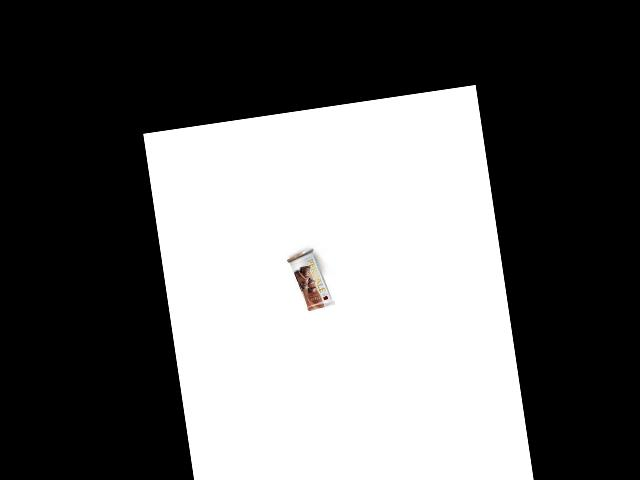chocolate: (281, 250, 336, 314)
